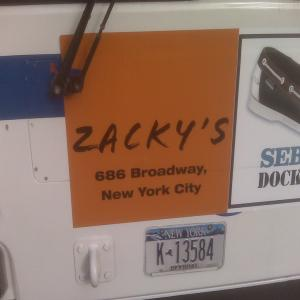Vehicle-registration-plate: (149, 230, 230, 282)
